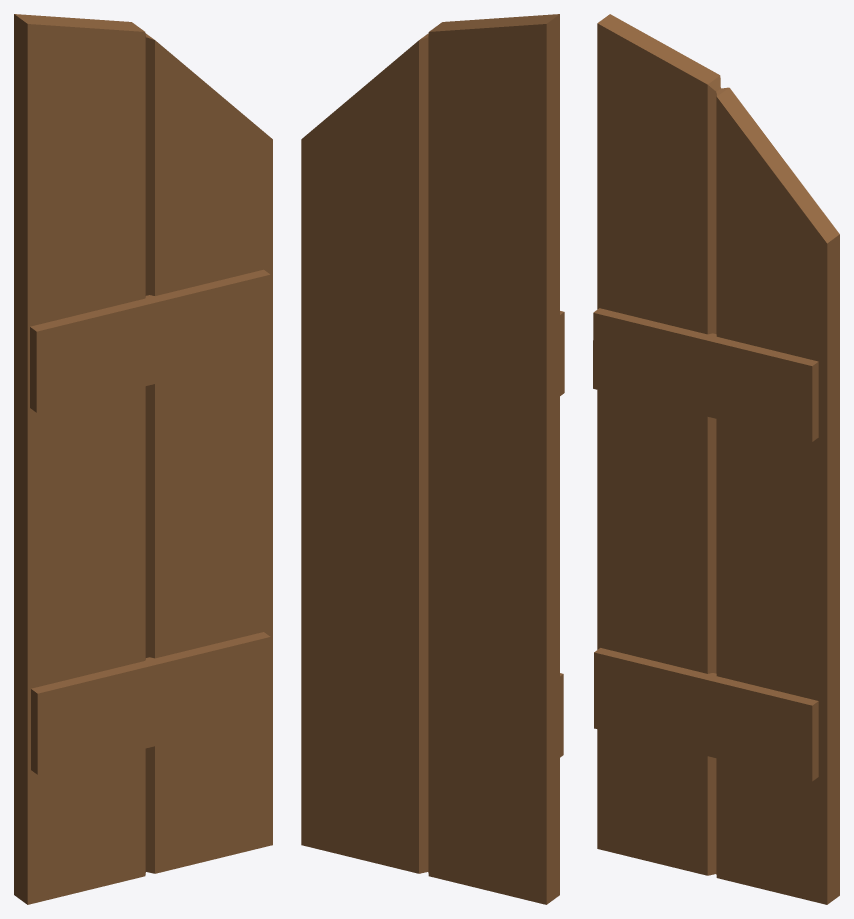
File: Castle_gate_3_2_mat.fbx
3 views of the same model, side by side, from view 1: azimuth 30°, elevation 25°; view 2: azimuth 150°, elevation 25°; view 3: azimuth 330°, elevation 25° (orthographic). The views are drawn at different scales.
Parts seen in each view (by area): view 1: Castle_gate_3_2_mat; view 2: Castle_gate_3_2_mat; view 3: Castle_gate_3_2_mat.
Part boxes in pixels (x1,y1,x2,y2): Castle_gate_3_2_mat: (14,14,272,904); Castle_gate_3_2_mat: (301,14,564,904); Castle_gate_3_2_mat: (593,14,839,904).
Bounding box in the file's own units: 0.6025 × 2.07 × 0.0865.
